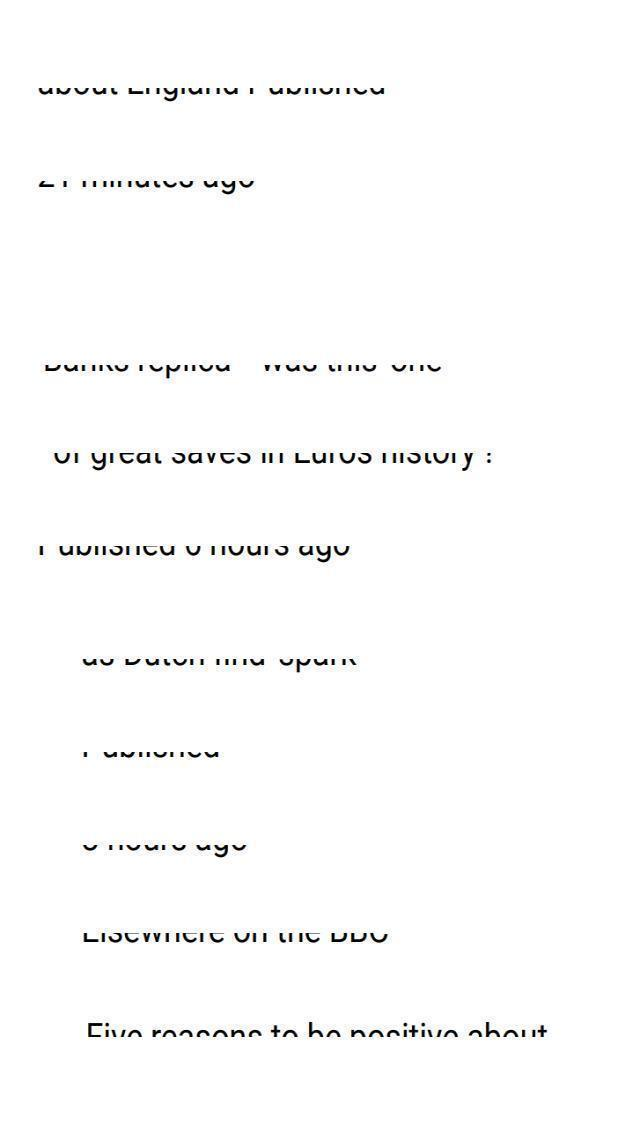WS3: (83, 1016, 562, 1040), (45, 449, 480, 475), (32, 77, 402, 104), (27, 540, 358, 564), (81, 928, 399, 952), (74, 654, 368, 678), (34, 170, 262, 197), (40, 360, 234, 382), (71, 840, 257, 862), (67, 745, 222, 766), (256, 362, 452, 376)
